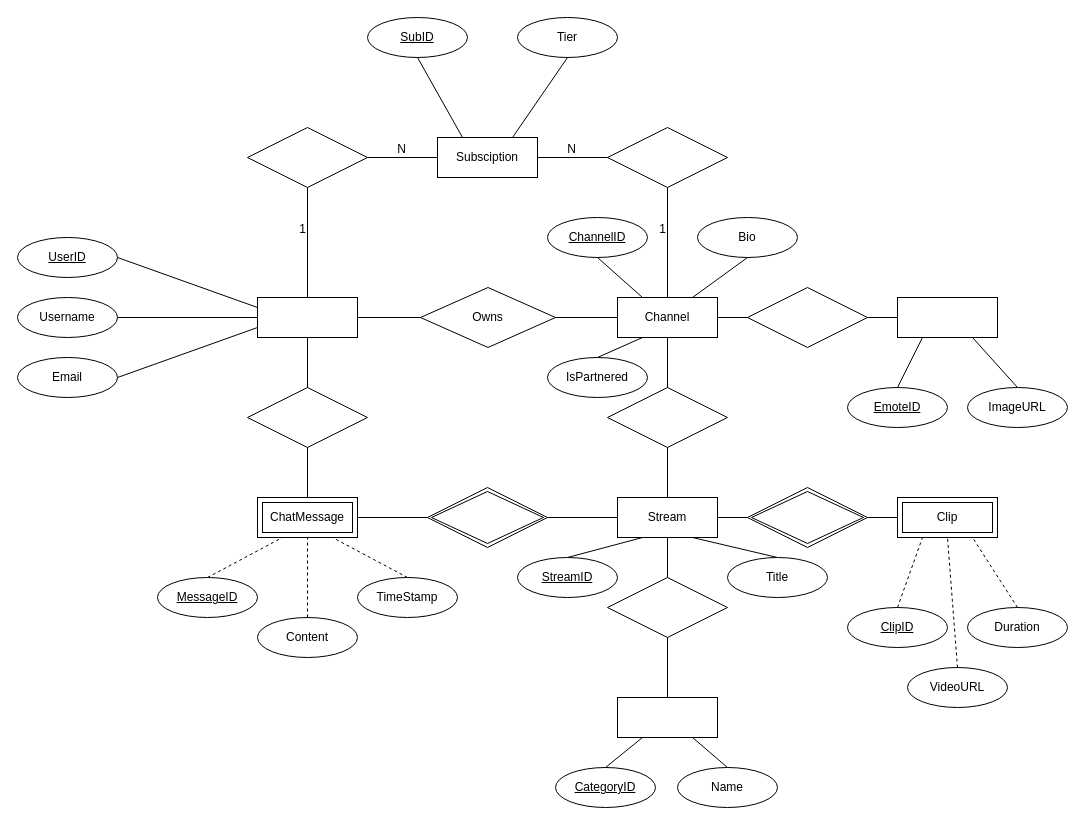
The diagram is 1085 pixels wide and 825 high, and some of its shapes have lost their labels. The centre of each missing label's shape, as x and y in pixels:
Broadcasts: point (667, 417)
Buys: point (307, 157)
Categorizes: point (667, 607)
Category: point (667, 717)
Contains: point (487, 517)
Emote: point (947, 317)
Generates: point (807, 517)
Offers: point (807, 317)
Sends: point (307, 417)
Unlocks: point (667, 157)
User: point (307, 317)
